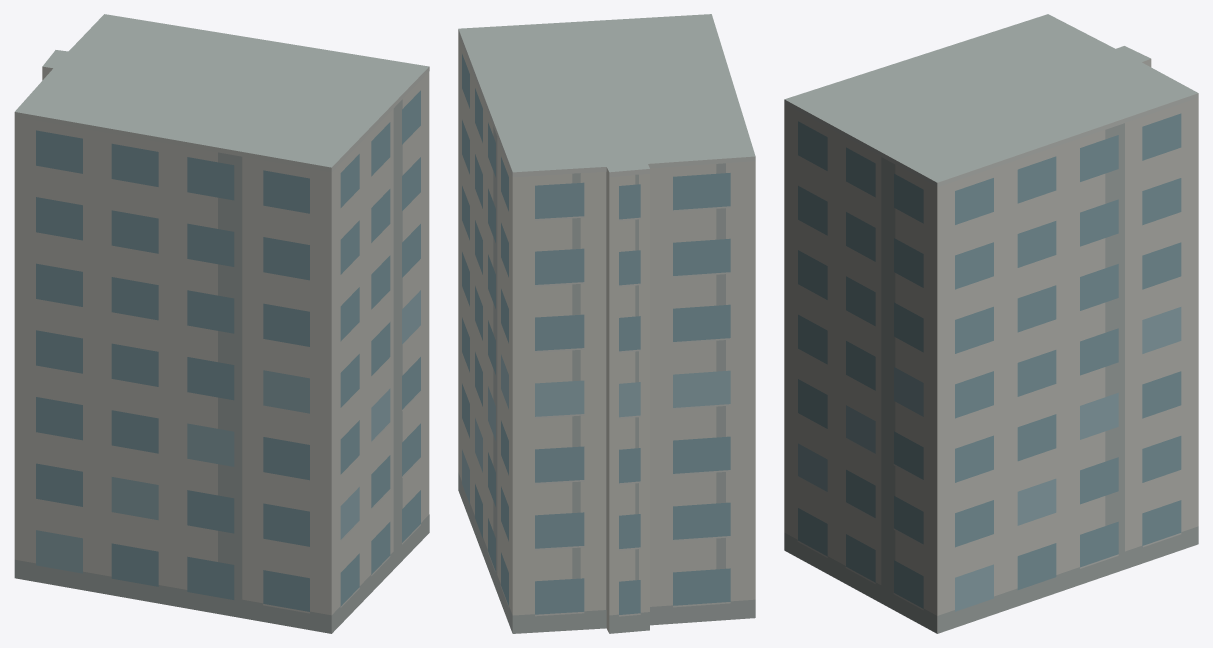
The model's file is survey-upis-32793632.glb.
The picture shows the model from 3 angles, left to right: view 1: azimuth 30°, elevation 25°; view 2: azimuth 150°, elevation 25°; view 3: azimuth 270°, elevation 25°; orthographic projection. The views are drawn at different scales.
Visible parts, largest first — view 1: survey-upis-32793632.tmp; view 2: survey-upis-32793632.tmp; view 3: survey-upis-32793632.tmp.
Boxes of the visible parts, x1,y1,x2,y2 form: survey-upis-32793632.tmp: (14, 14, 429, 633); survey-upis-32793632.tmp: (458, 14, 755, 633); survey-upis-32793632.tmp: (784, 14, 1198, 633).
Bounding box in the file's own units: 18.95 × 23.6 × 19.65.
